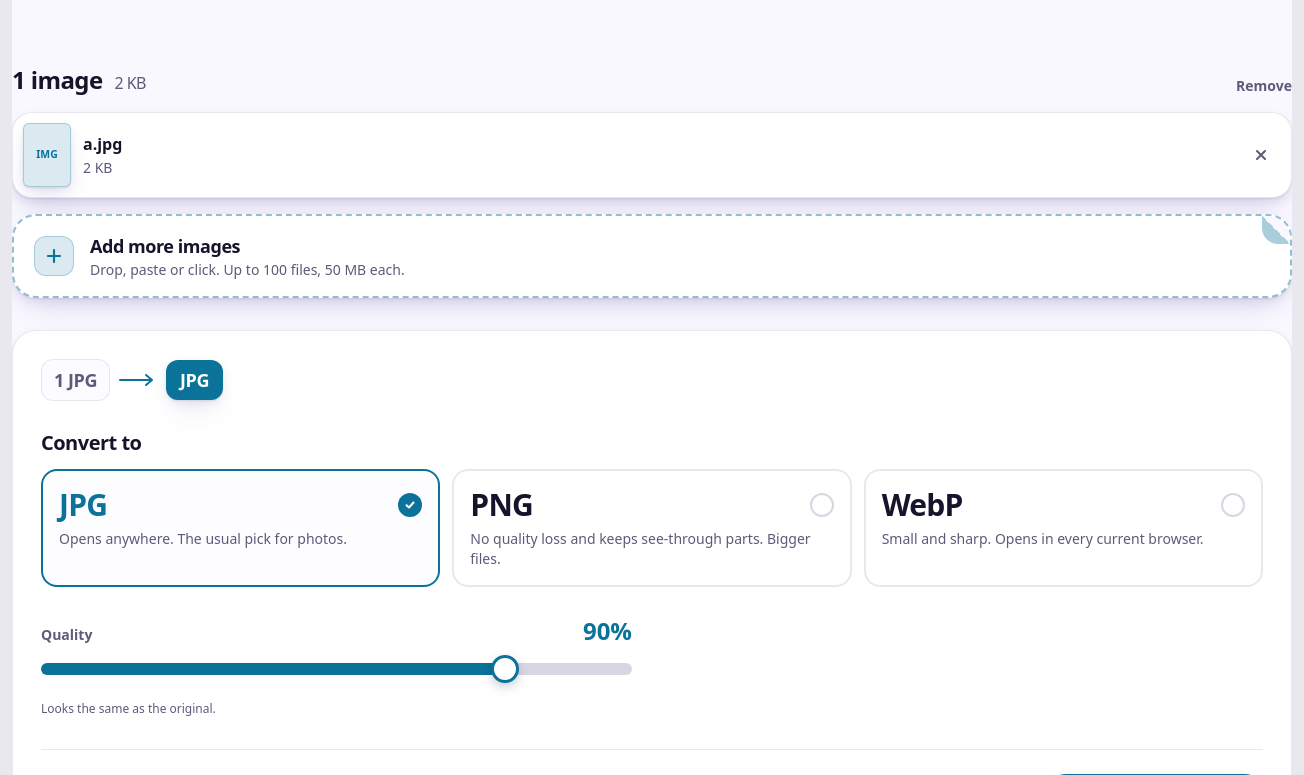
it: ConvertTool › turns quality off for PNG
Earlier steps of the test are not shown.
Check: the slider labelled "Quality" is enabled, box [41, 647, 632, 691]
Click the radio button labelled "PNG" at (652, 528), box [452, 469, 852, 587]
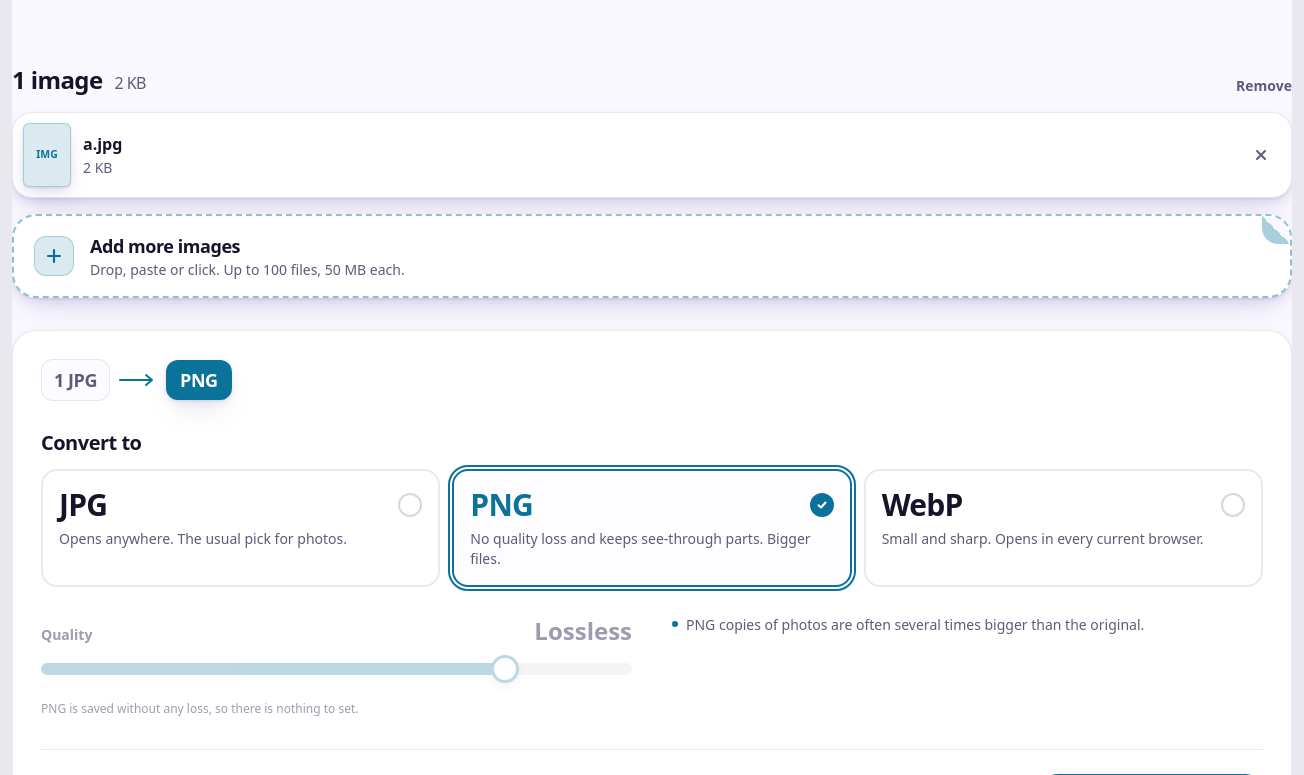
Check: the slider labelled "Quality" is disabled, box [41, 647, 632, 691]
Check: the text "PNG is saved without any loss, so there is nothing to set." is shown, box [41, 700, 358, 717]
Check: the list item "often several times bigger" is shown, box [686, 615, 1144, 634]
